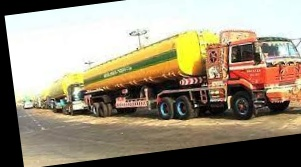truck: (79, 16, 301, 139), (45, 67, 89, 120)
